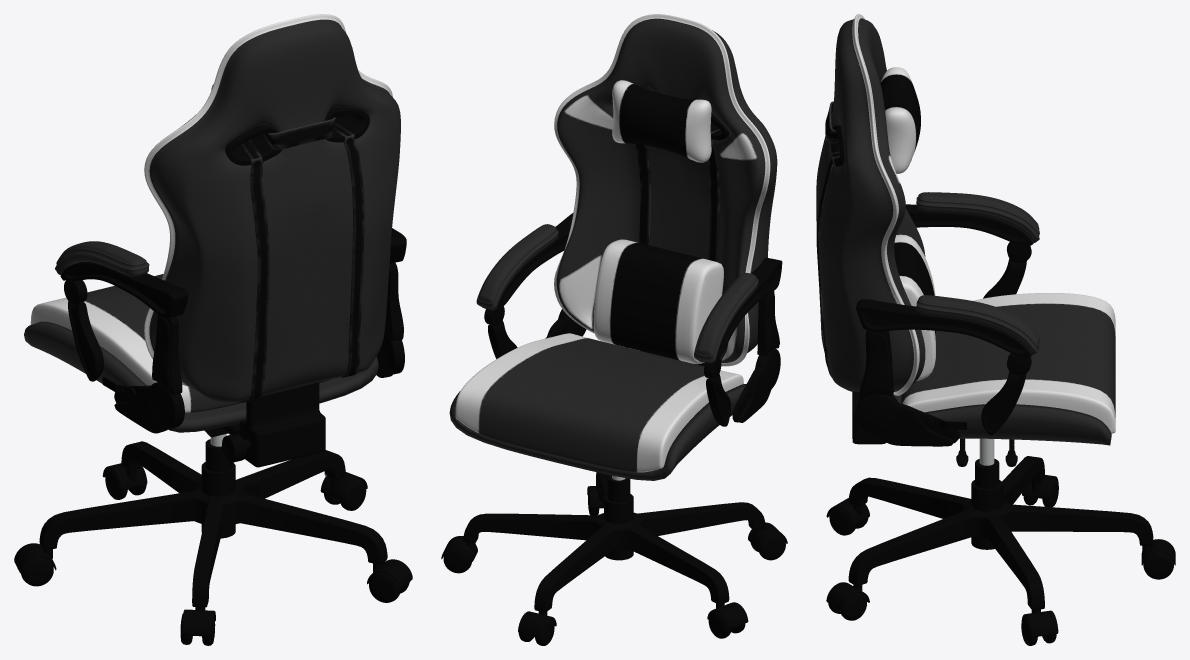
File: Chair34.fbx
3 views of the same model, side by side, from view 1: azimuth 30°, elevation 25°; view 2: azimuth 150°, elevation 25°; view 3: azimuth 270°, elevation 25° (orthographic). The views are drawn at different scales.
Parts seen in each view (by area): view 1: Chair34; view 2: Chair34; view 3: Chair34.
Part boxes in pixels (<box>): Chair34: <box>14,14,412,645</box>; Chair34: <box>441,14,787,645</box>; Chair34: <box>816,14,1175,645</box>.
Size of the model in its own units: 74.33 by 122 by 72.79.
